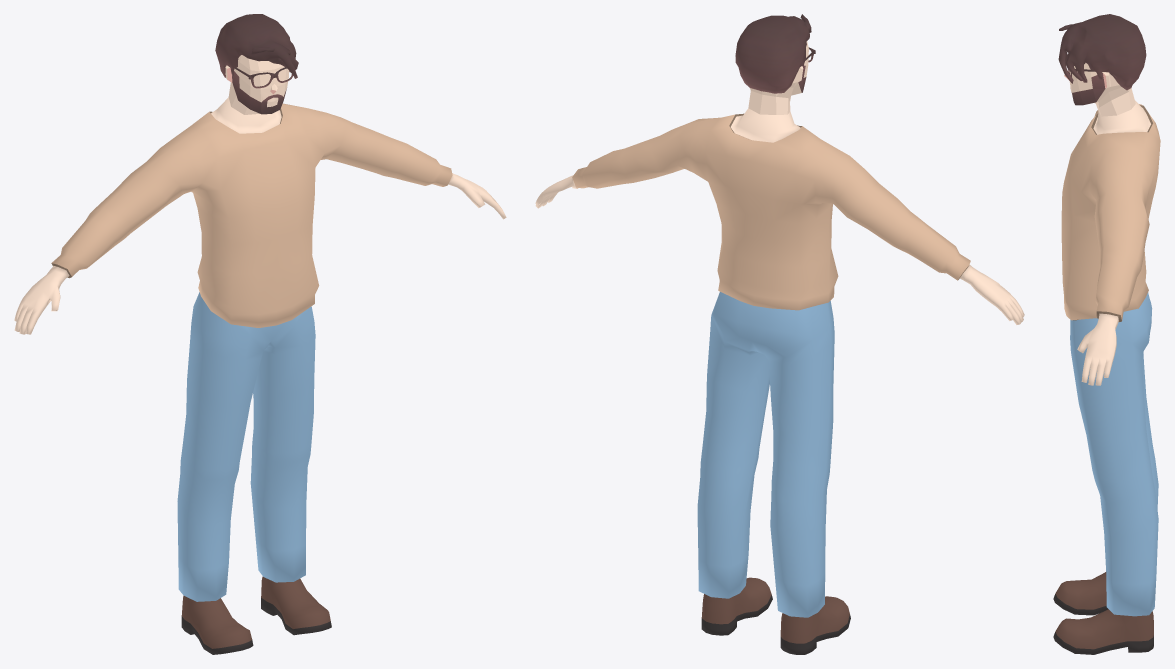
File: will-rigify2-compressed.glb
The picture shows the model from 3 angles, left to right: view 1: azimuth 30°, elevation 25°; view 2: azimuth 150°, elevation 25°; view 3: azimuth 270°, elevation 25°; orthographic projection.
Visible parts, largest first — view 1: Shirt, Pants, Shoes, Hair, Head; view 2: Shirt, Pants, Shoes, Hair, Head; view 3: Shirt, Pants, Shoes, Hair, Head.
Part boxes in pixels (x1,y1,x2,y2): Shirt: (14, 97, 506, 334); Pants: (177, 292, 315, 601); Shoes: (181, 576, 331, 654); Hair: (215, 14, 298, 78); Head: (225, 55, 289, 114); Shirt: (535, 108, 1024, 324); Pants: (697, 292, 834, 617); Shoes: (701, 577, 850, 654); Hair: (735, 14, 811, 93); Head: (748, 41, 808, 114); Shirt: (1061, 100, 1160, 385); Pants: (1070, 292, 1158, 616); Shoes: (1053, 572, 1153, 654); Hair: (1058, 14, 1146, 90); Head: (1064, 63, 1135, 116).
Bounding box in the file's own units: 1.68 × 2.01 × 0.3224.
1 material, 1 textured.
